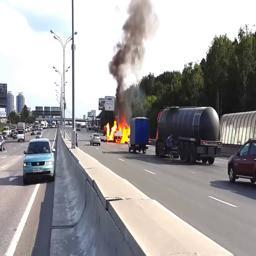fire: (106, 116, 131, 144)
